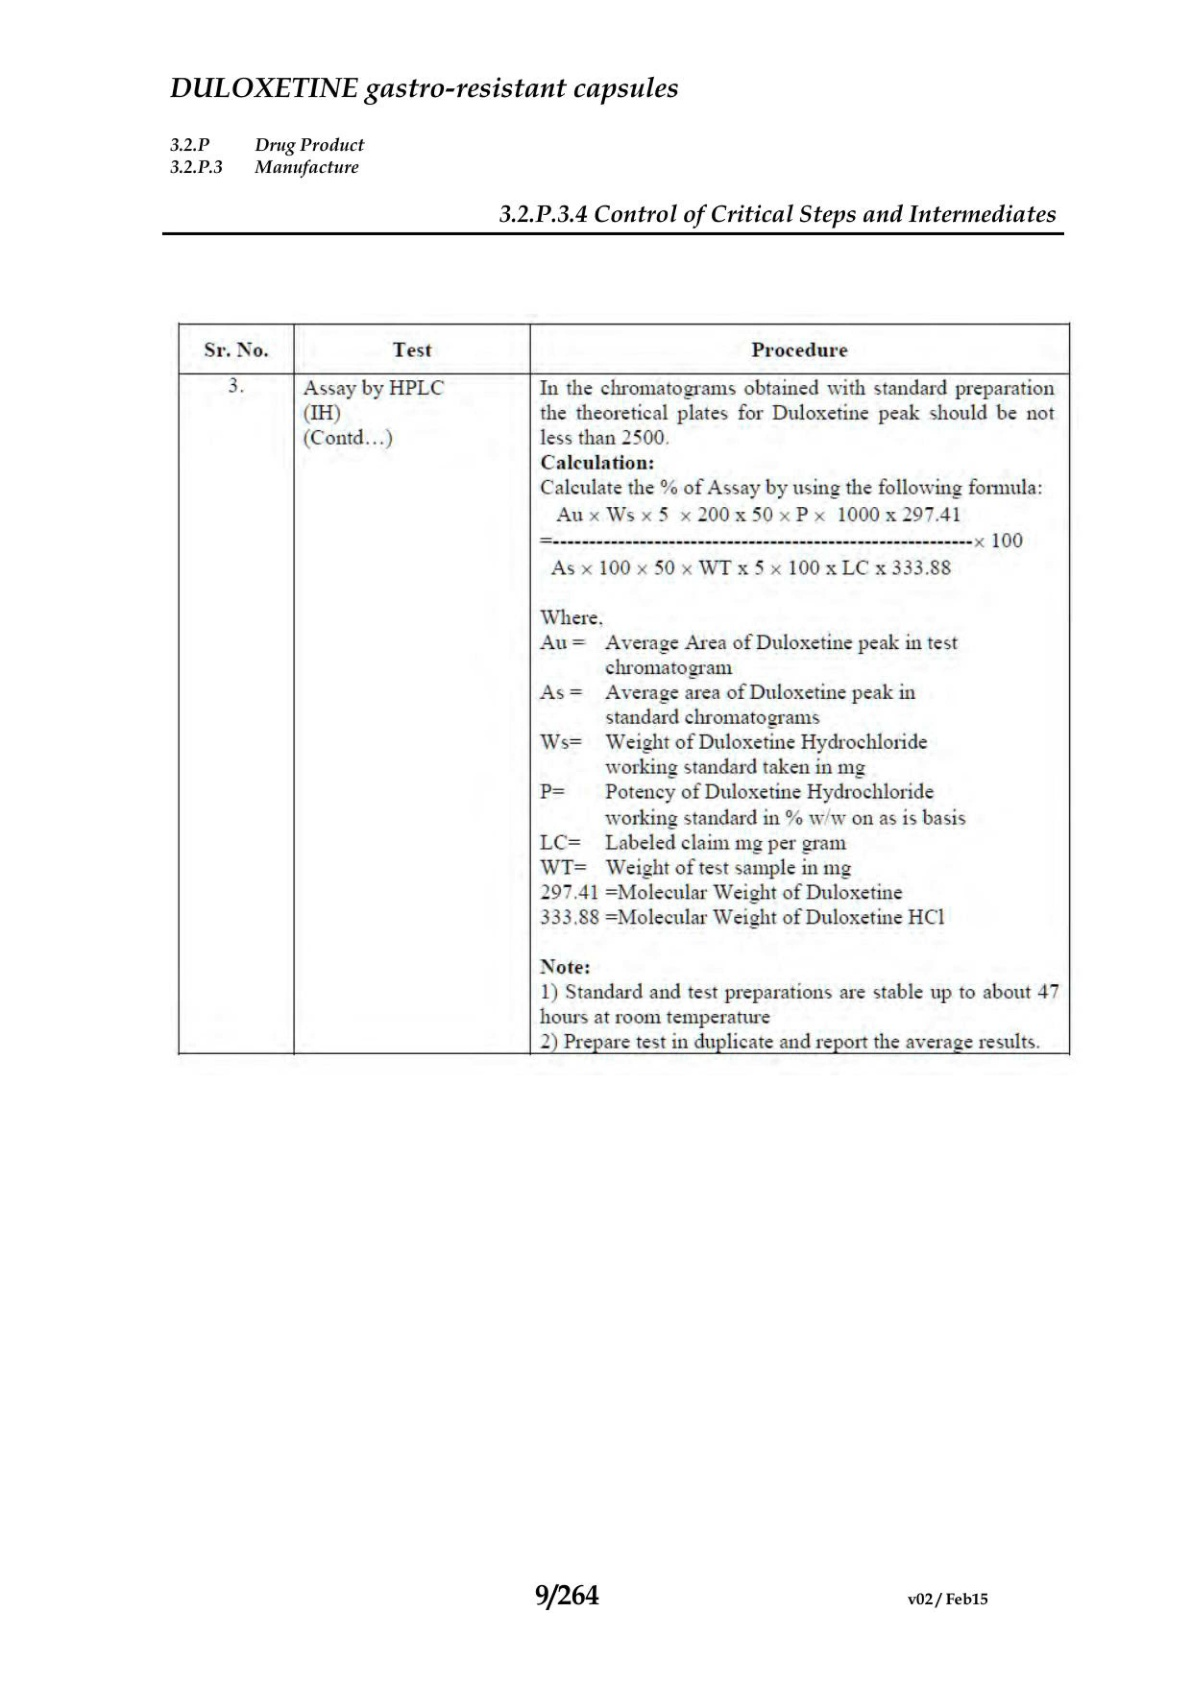full_lined: (175, 323, 1072, 1055)
